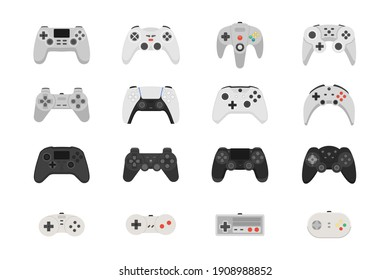gamingconsole: (301, 24, 356, 68), (123, 24, 179, 67), (216, 20, 263, 70), (124, 85, 180, 126), (302, 83, 354, 127), (34, 26, 90, 66), (212, 85, 268, 125), (35, 147, 91, 185), (33, 86, 90, 123), (214, 147, 267, 184), (304, 146, 355, 184), (124, 148, 178, 182), (306, 210, 352, 240), (213, 212, 265, 238), (125, 213, 175, 235), (38, 212, 81, 236)
